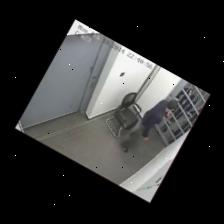person: (121, 99, 178, 152)
